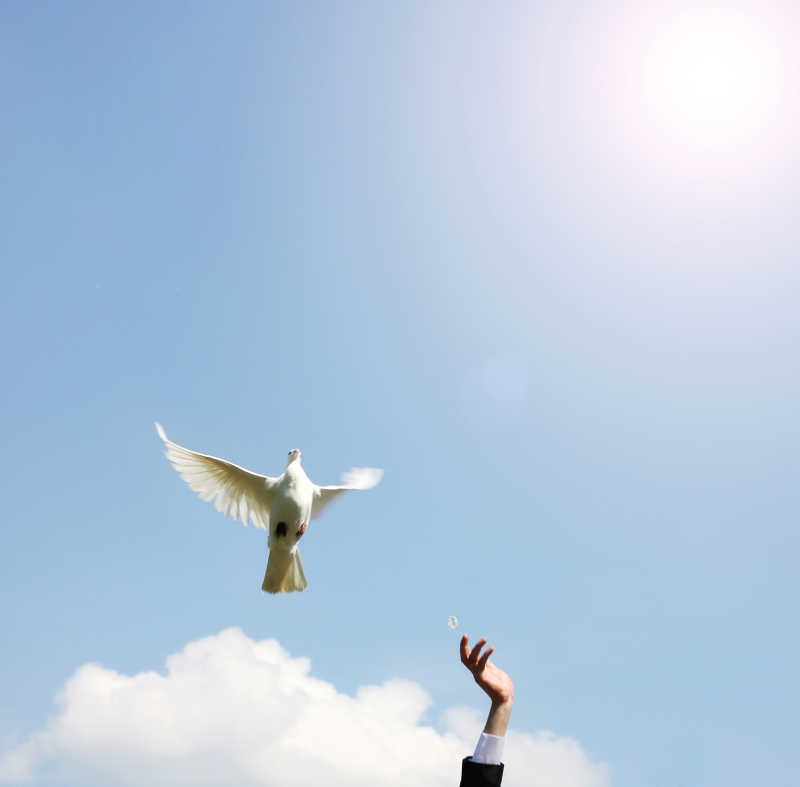bird: (153, 416, 387, 593)
